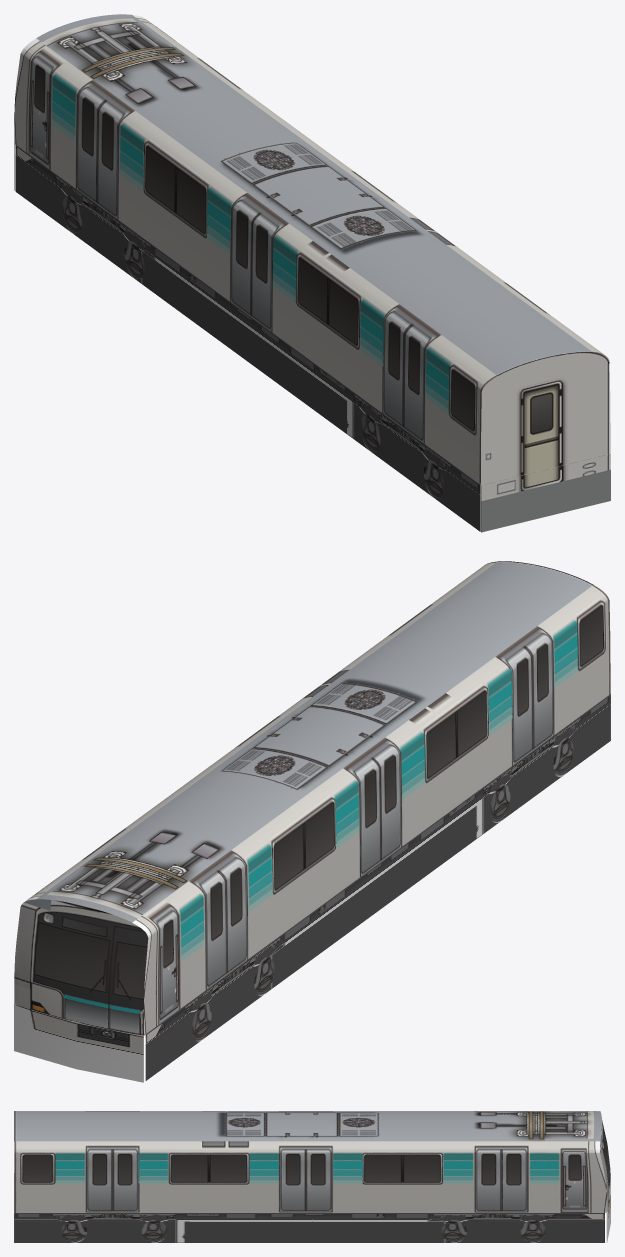
Rendered from car3.glb.
3 renders of one model, top to bottom at view 1: azimuth 30°, elevation 25°; view 2: azimuth 150°, elevation 25°; view 3: azimuth 270°, elevation 25°, orthographic. The views are drawn at different scales.
Visible parts, largest first — view 1: yokohamasub-10000-car3; view 2: yokohamasub-10000-car3; view 3: yokohamasub-10000-car3.
Boxes of the visible parts, x1,y1,x2,y2 form: yokohamasub-10000-car3: [14, 14, 610, 532]; yokohamasub-10000-car3: [14, 561, 610, 1082]; yokohamasub-10000-car3: [14, 1111, 610, 1242].
Bounding box in the file's own units: 2.49 × 2.9 × 15.63.
9 materials, 8 textured.
